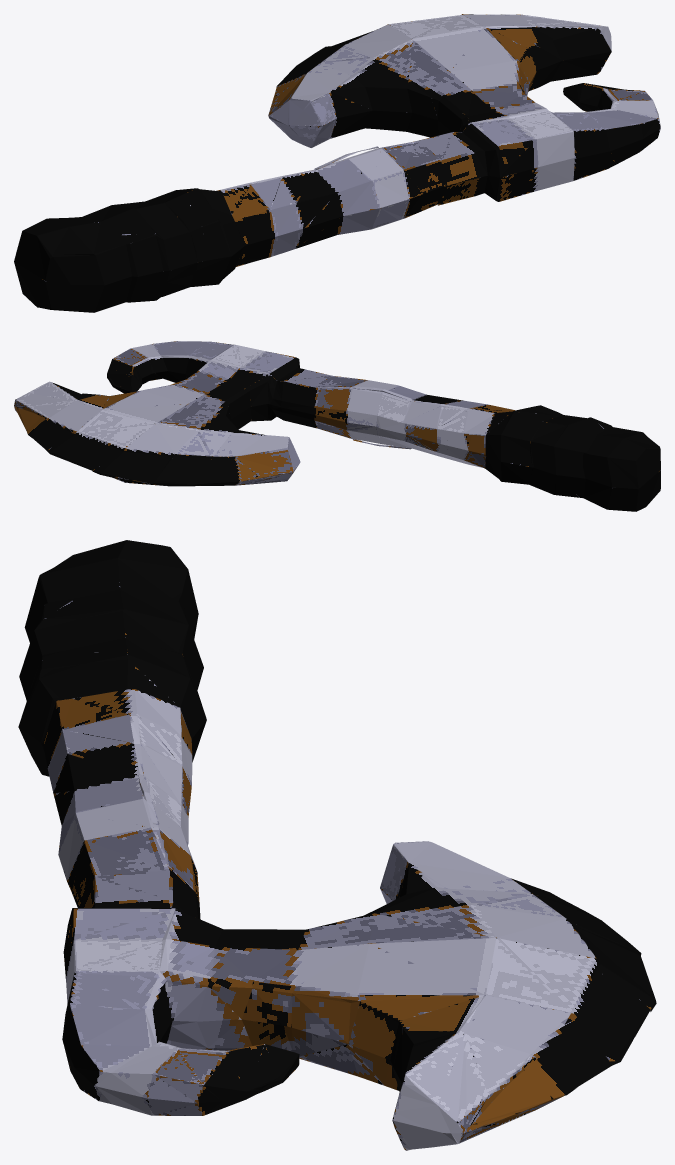
The picture shows the model from 3 angles, top to bottom: view 1: azimuth 30°, elevation 25°; view 2: azimuth 150°, elevation 25°; view 3: azimuth 270°, elevation 25°; orthographic projection. The views are drawn at different scales.
Parts seen in each view (by area): view 1: OBJ000; view 2: OBJ000; view 3: OBJ000.
Part boxes in pixels (x1,y1,x2,y2): OBJ000: [14, 14, 660, 312]; OBJ000: [14, 341, 660, 511]; OBJ000: [18, 540, 656, 1150].
Bounding box in the file's own units: 0.3252 × 0.04 × 0.1621.
Materials: 1 (1 with a texture image).
